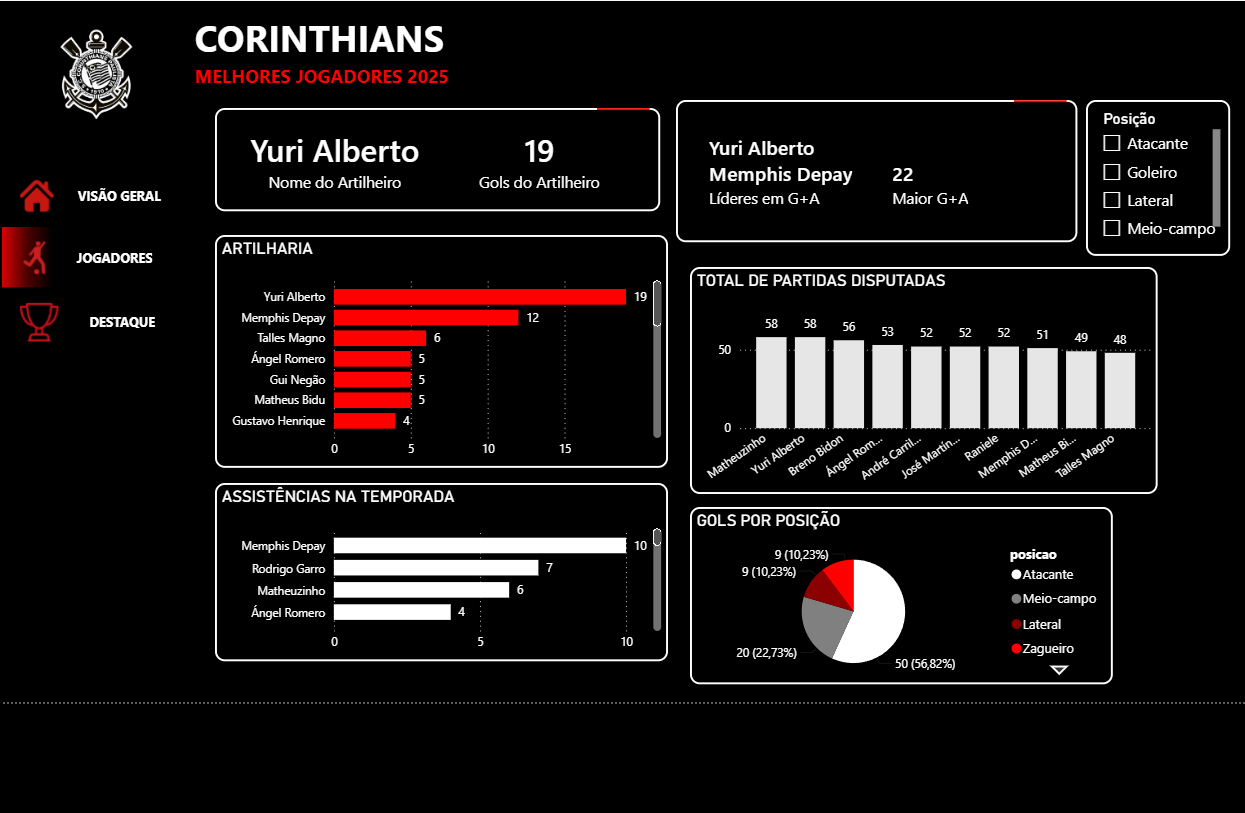

Layout of this report page (visuals, bound fields, positions):
{"tool":"powerbi","page":{"name":"Jogadores","canvas":[1280,720],"ordinal":1},"visuals":[{"type":"actionButton","box":[1.9,221.8,167.3,83.6],"z":0},{"type":"actionButton","box":[1.9,179,152.7,42.8],"z":1000},{"type":"actionButton","box":[1.9,305.4,143,54.5],"z":2000},{"type":"image","box":[1.9,0,192.6,163.4],"z":3000},{"type":"cardVisual","fields":{"Data":["Jogadores.Gols do Artilheiro","Jogadores.Nome do Artilheiro"]},"box":[228.6,124.5,516.5,106],"z":4000},{"type":"textbox","box":[194.5,6.8,290.8,59.3],"z":5000},{"type":"textbox","box":[194.5,59.3,290.8,42.8],"z":6000},{"type":"barChart","title":"ARTILHARIA","fields":{"Category":["Jogadores.nome"],"Y":["Sum(Jogadores.gols_temporada)"]},"box":[228.6,263.6,626.4,313.2],"z":7000},{"type":"slicer","fields":{"Values":["Jogadores.posicao"]},"box":[891.9,279.1,147.8,160.5],"z":8000},{"type":"image","box":[1090.3,37,179.9,195.5],"z":9000}]}

Visuals, with their boxes on the page's 1280x720 design canvas (x1, y1, x2, y2). These are canvas units, not pixel positions in the 1245x813 screenshot, which may show the page scaled, cropped or inside an application window:
actionButton: (2,222,169,305)
actionButton: (2,179,155,222)
actionButton: (2,305,145,360)
image: (2,0,194,163)
cardVisual - Jogadores.Gols do Artilheiro x Jogadores.Nome do Artilheiro: (229,124,745,230)
textbox: (194,7,485,66)
textbox: (194,59,485,102)
"ARTILHARIA" barChart: (229,264,855,577)
slicer - Jogadores.posicao: (892,279,1040,440)
image: (1090,37,1270,232)
